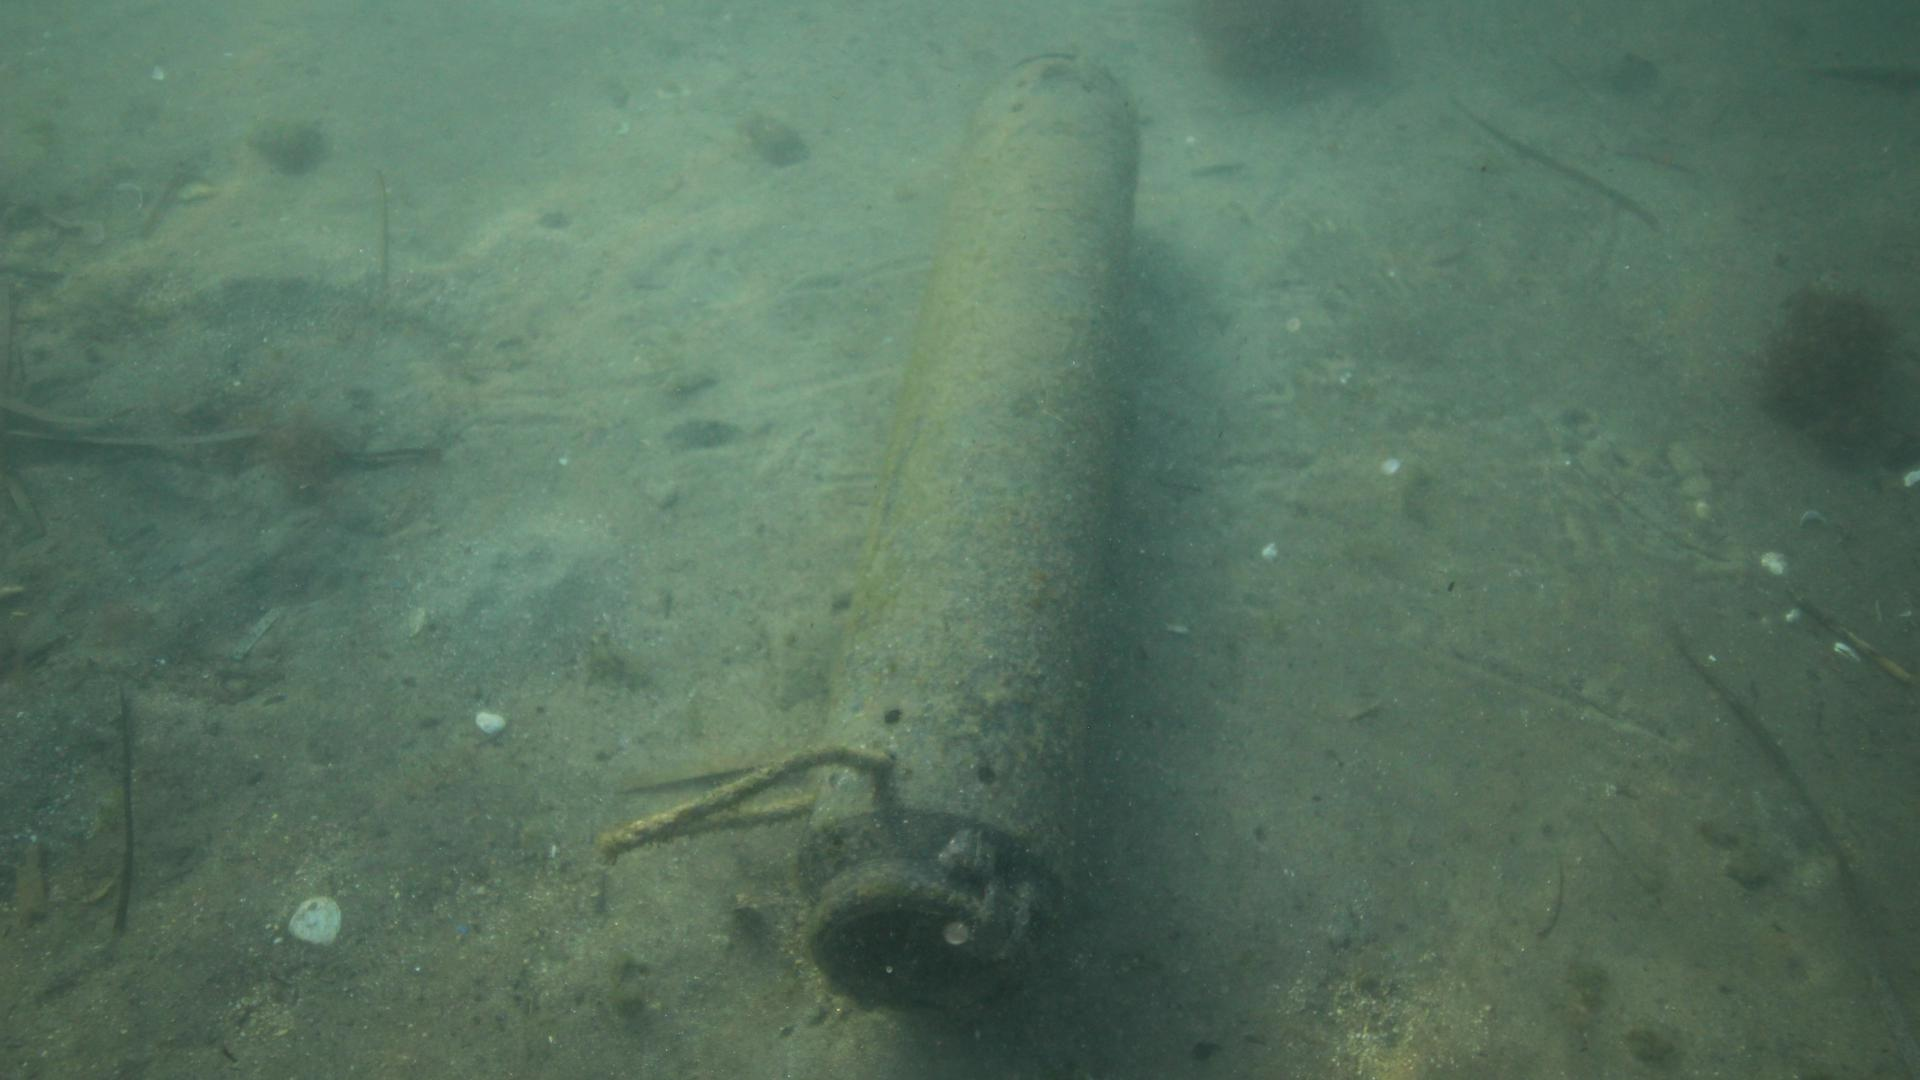eel fish trap: (799, 50, 1138, 1027)
rope: (597, 740, 895, 855)
